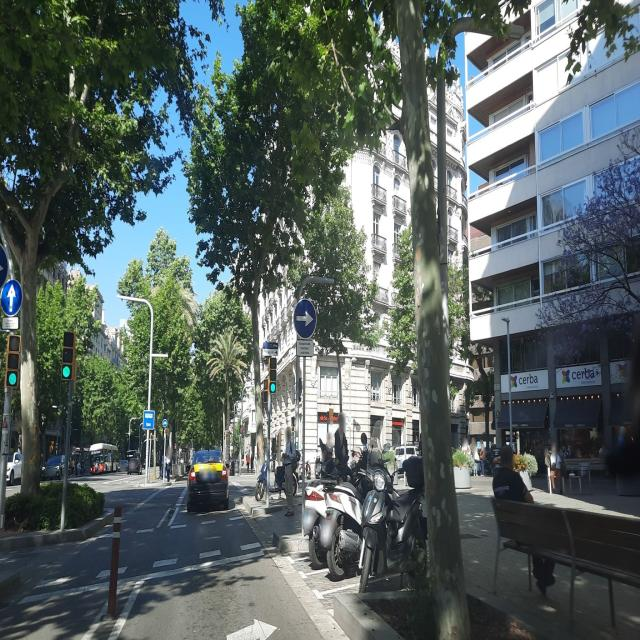bike: (326, 464, 424, 589), (358, 466, 429, 595), (326, 459, 396, 582), (302, 458, 359, 573), (255, 453, 298, 505)
car: (187, 447, 229, 512), (392, 443, 422, 474), (42, 455, 69, 480), (4, 452, 23, 484)
